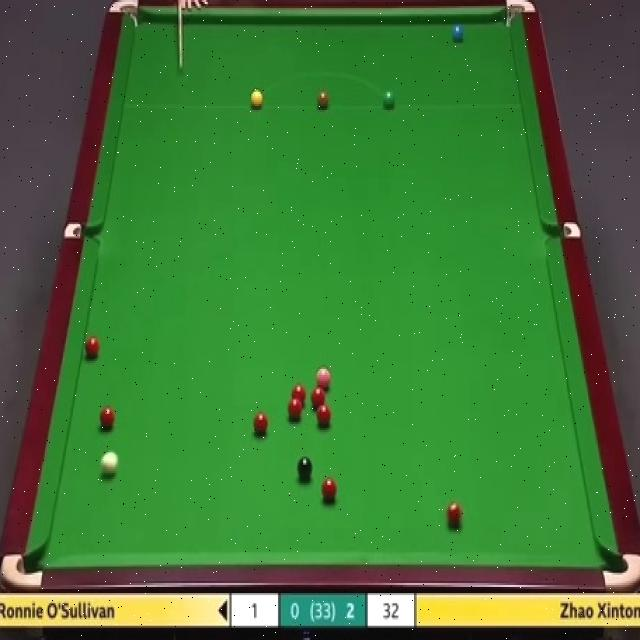black-ball: (297, 455, 314, 484)
blue-ball: (450, 20, 466, 46)
brown-ball: (317, 90, 330, 112)
green-ball: (382, 90, 396, 112)
pink-ball: (313, 366, 331, 390)
red-ball: (99, 405, 116, 433), (322, 478, 339, 504), (447, 502, 462, 529), (253, 411, 268, 437), (316, 403, 332, 427), (287, 398, 303, 422), (84, 335, 99, 360), (290, 384, 307, 405), (310, 388, 326, 408)
white-ball: (100, 451, 119, 477)
yellow-ball: (250, 89, 264, 110)
